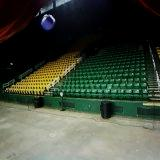Purple_Balloon: (40, 15, 56, 30)
